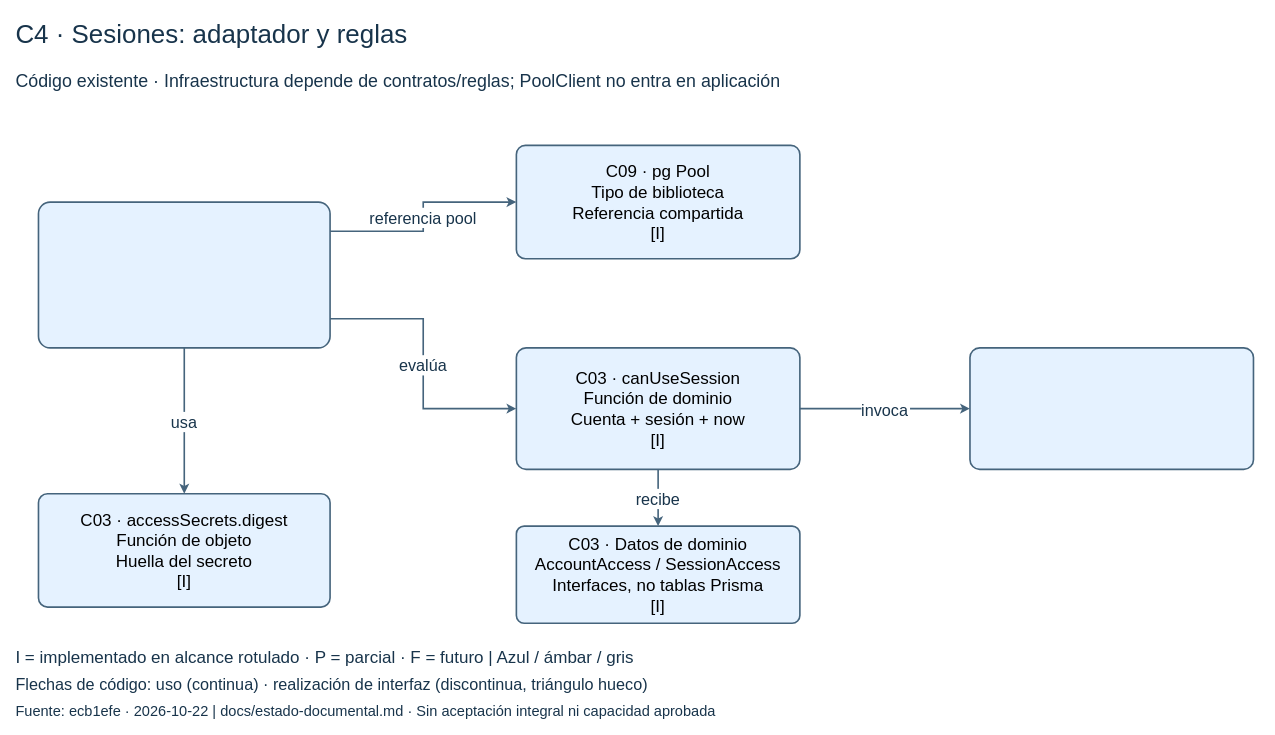
Some shapes in this 1275 by 735 pixel diagram are drawn without their labels. Each missing label, with the centre of its shape:
"C03 · canAccessApplication Función de dominio Habilitación de cuenta [I]" belongs at pixel 1111 408.
"C03 · PostgresSessionStore lookup / accept / revoke revalidateInTransaction [I]" belongs at pixel 183 274.
